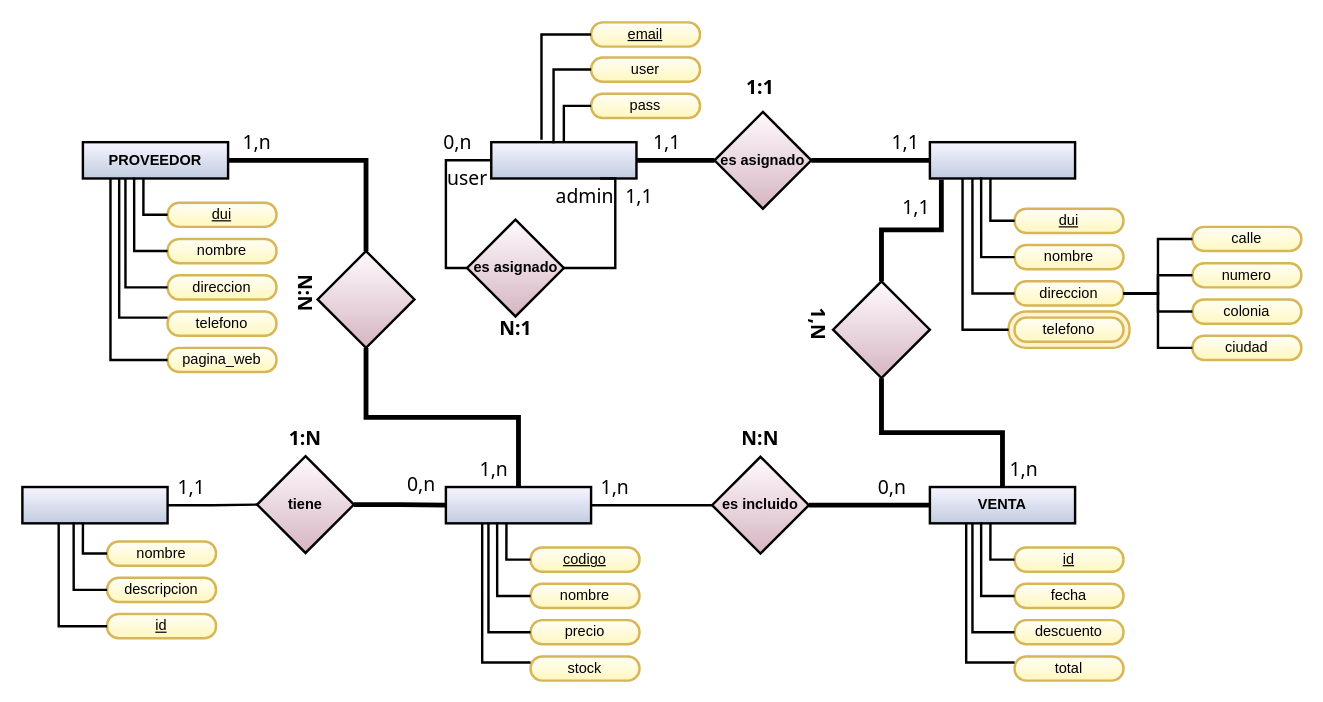
The diagram is 1323 pixels wide and 702 high, and some of its shapes have lost their labels. The centre of each missing label's shape, as x and y in pixels:
"abastece" belongs at point (365, 298).
"CATEGORIA" belongs at point (94, 504).
"CLIENTE" belongs at point (1002, 159).
"PRODUCTO" belongs at point (518, 504).
"provoca" belongs at point (880, 329).
"USUARIO" belongs at point (563, 159).
